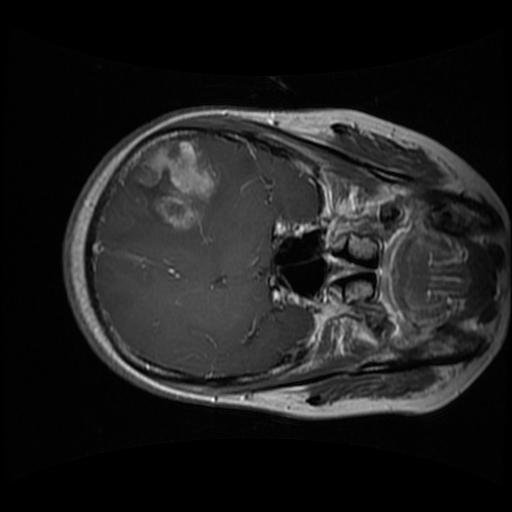glioma: (127, 138, 222, 237)
